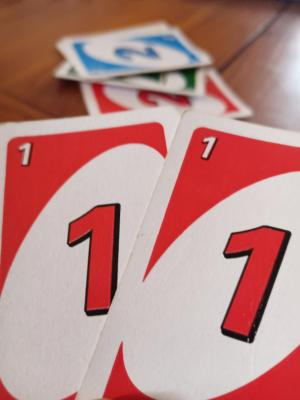blue: (62, 23, 213, 83)
num_1: (13, 133, 42, 178)
num_2: (109, 40, 167, 66)
